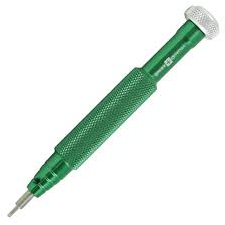screwdriver: (5, 3, 215, 218)
